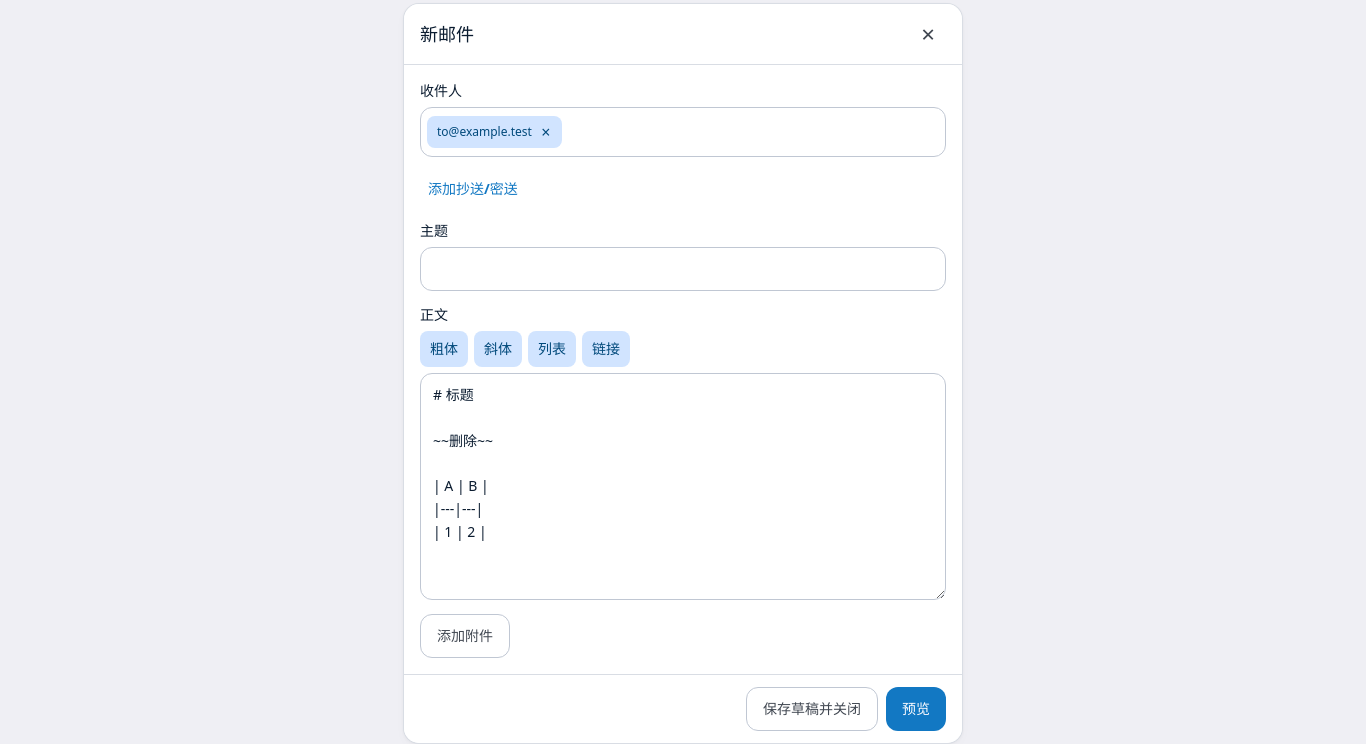
Test: Mini App accessibility and destructive action safeguards › renders Markdown semantics, including tables, in the compose preview
(page scrolled)
Click the button "预览": (916, 709) [886,687,946,731]
(page scrolled)
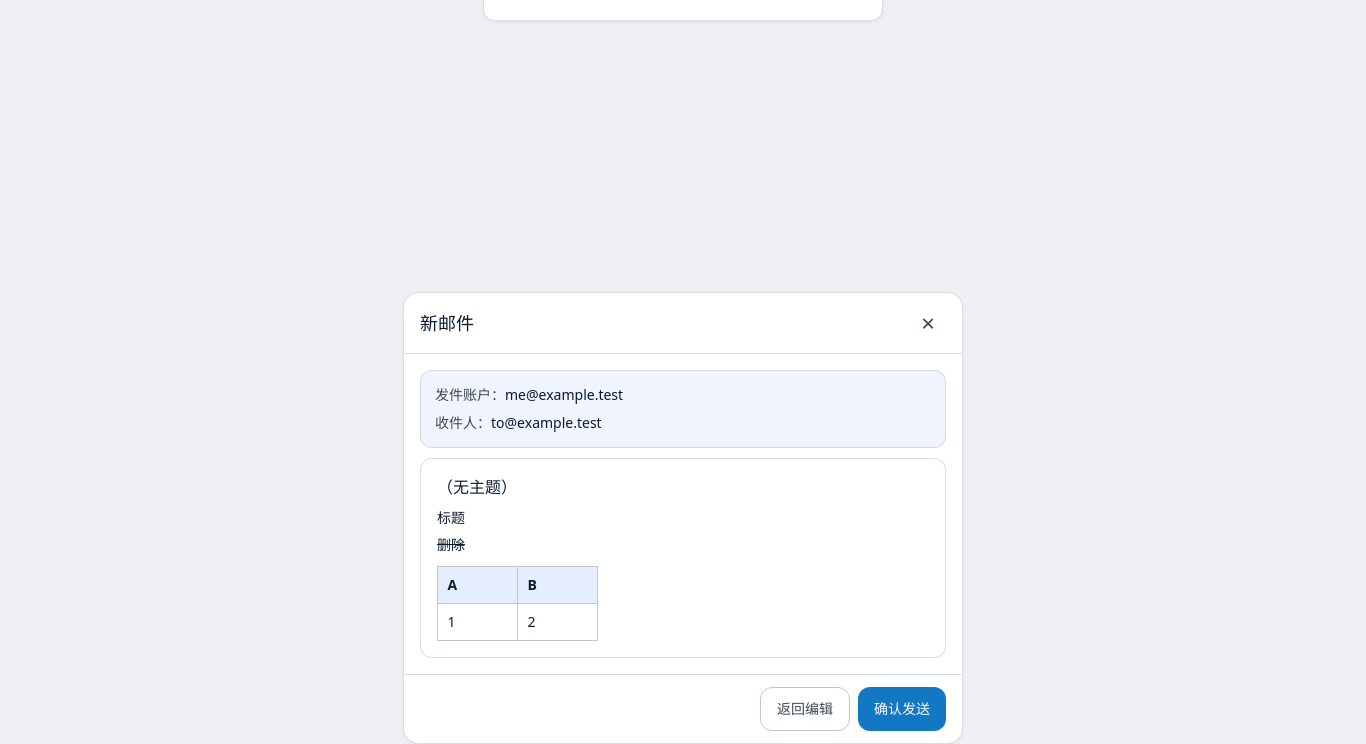
Now the heading "标题" is shown, box [437,508,465,527]
Now the text "删除" is shown, box [437,535,465,554]
Now the table is shown, box [437,566,929,641]
